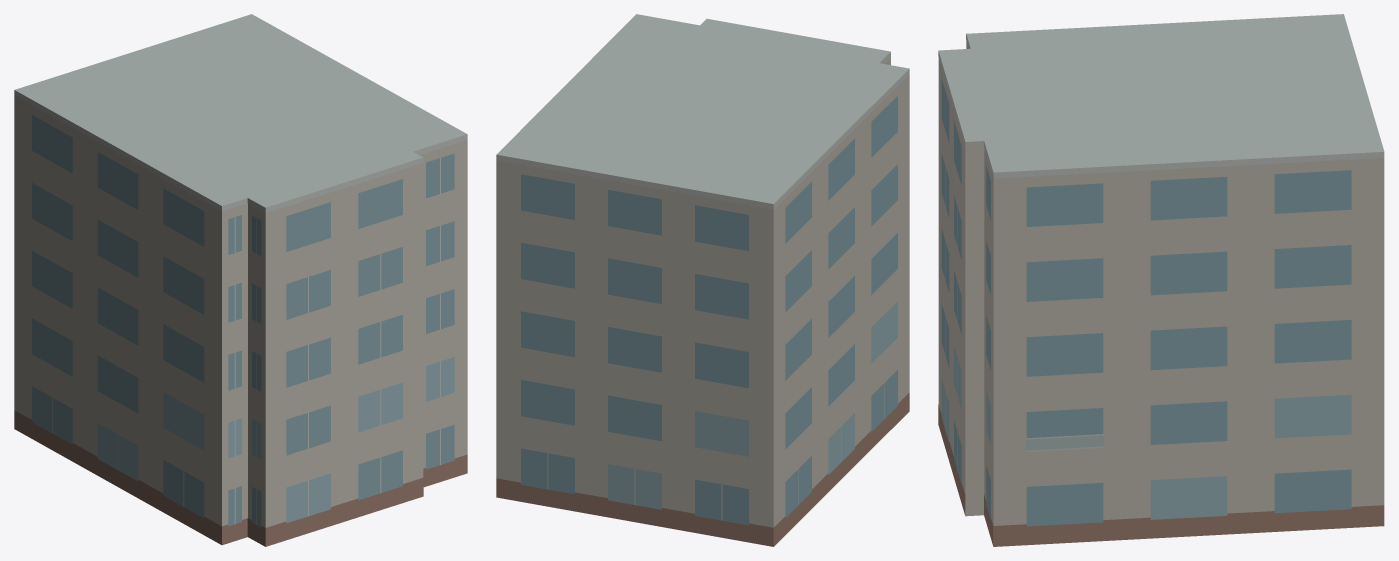
Rendered from survey-upis-32524093.glb.
3 views of the same model, side by side, from view 1: azimuth 30°, elevation 25°; view 2: azimuth 150°, elevation 25°; view 3: azimuth 270°, elevation 25° (orthographic). The views are drawn at different scales.
Parts seen in each view (by area): view 1: survey-upis-32524093.tmp; view 2: survey-upis-32524093.tmp; view 3: survey-upis-32524093.tmp.
Boxes of the visible parts, <box> form: survey-upis-32524093.tmp: <box>14,14,467,546</box>; survey-upis-32524093.tmp: <box>496,14,909,546</box>; survey-upis-32524093.tmp: <box>938,14,1384,546</box>.
Size of the model in its own units: 13.87 by 15.25 by 16.48.
